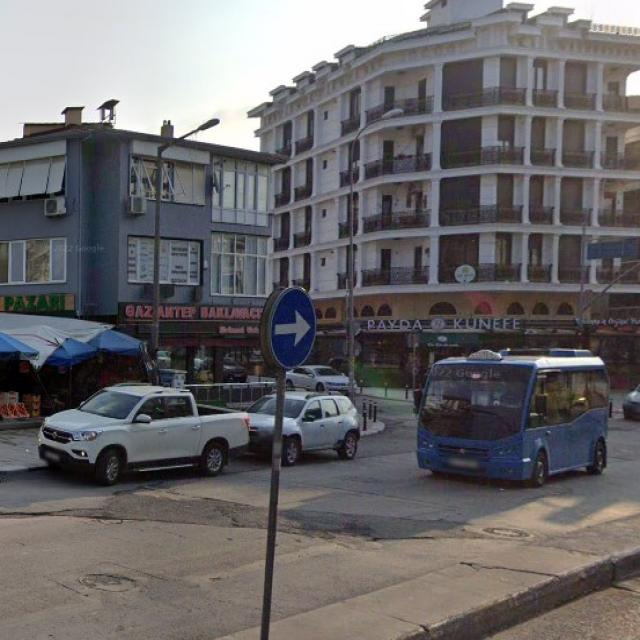Turn Right: (267, 289, 317, 367)
